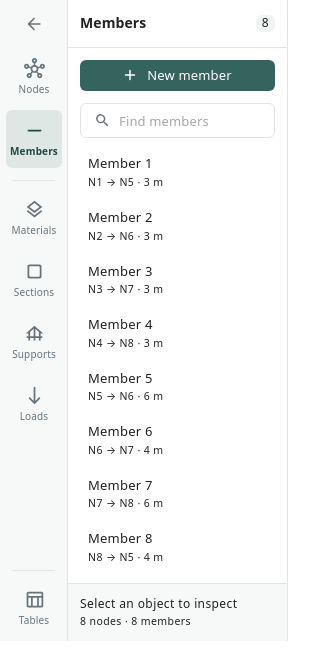
Test: separates category browsing, object selection and new geometry
The width and height of the screenshot is (320, 658).
What coordinates should you click on to do the following:
click the button "Nodes"
I would click on:
 (34, 77)
Its box is [6,48,62,106].
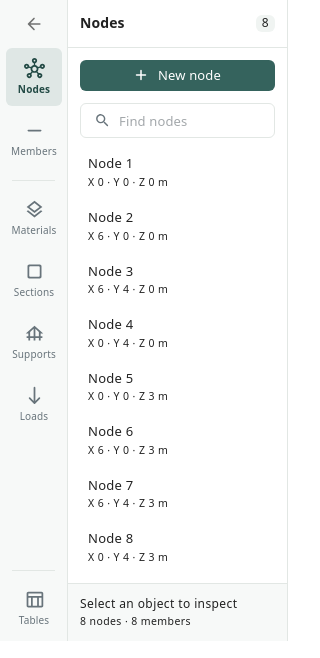
What coordinates should you click on to do the following:
click the button "Node 1 X 0 · Y 0 · Z 0 m"
I would click on:
 (128, 172)
Its box is [88,154,168,189].
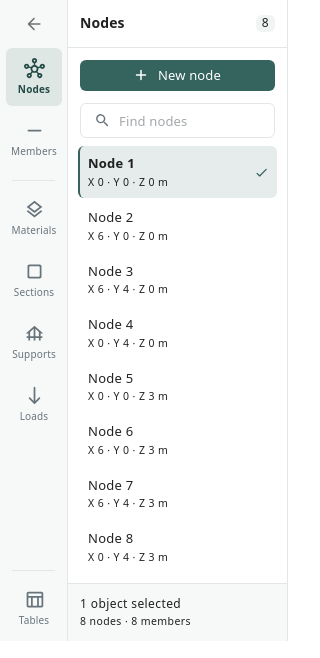
Expected: the button "Node 1 X 0 · Y 0 · Z 0 m" is pressed, [78,146,277,198]
What coordinates should you click on to do the following:
click the button "New node"
I would click on:
 (178, 75)
Its box is [80,60,275,91].
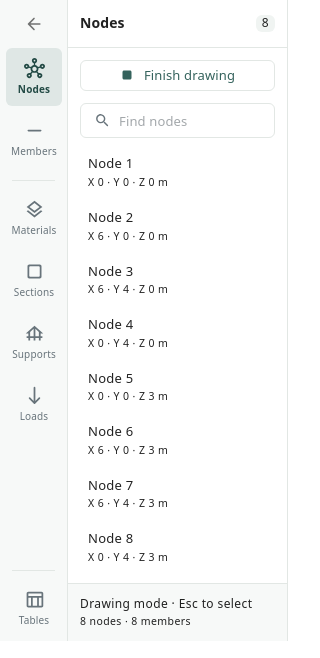
Expected: the text "Drawing mode · Esc to select" is shown, [80,596,275,612]
What coordinates should you click on to do the following:
click the button "Finish drawing"
I would click on:
 (178, 75)
Its box is [80,60,275,91].
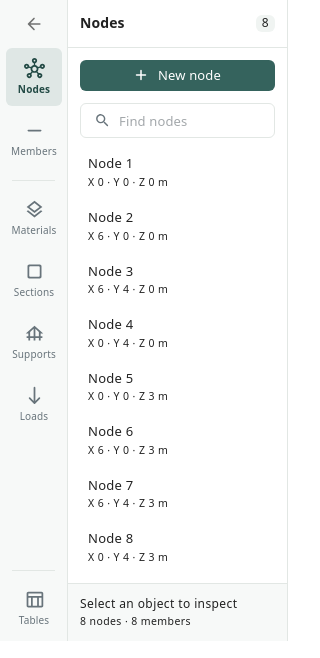
Expected: the button "New node" is shown, [80,60,275,91]
